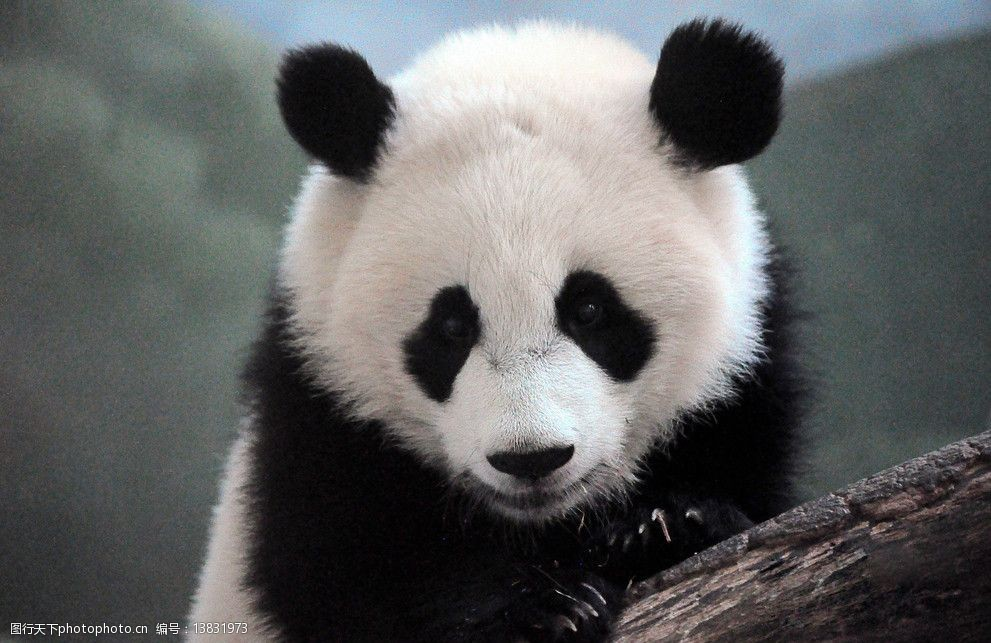panda: (226, 11, 819, 605)
